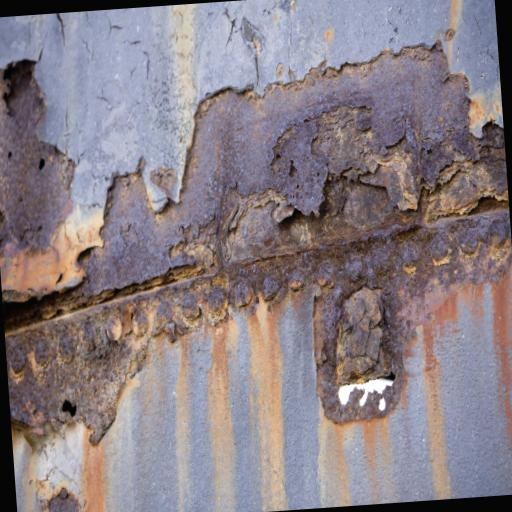segmentation: (36, 45, 509, 314), (135, 209, 512, 422), (0, 62, 104, 302), (5, 306, 148, 426), (49, 488, 79, 512)
